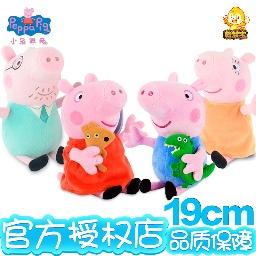Peppa: (56, 72, 143, 202)
